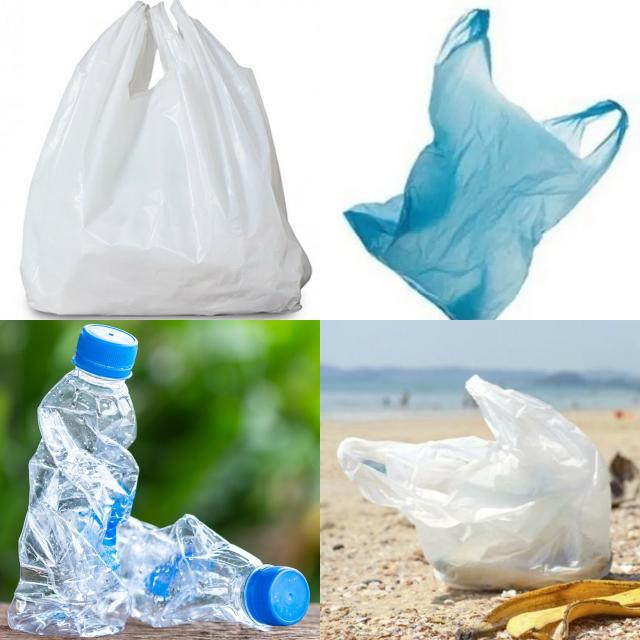Single-layer Plastic: (21, 1, 311, 316), (345, 9, 628, 318), (338, 375, 611, 589)
